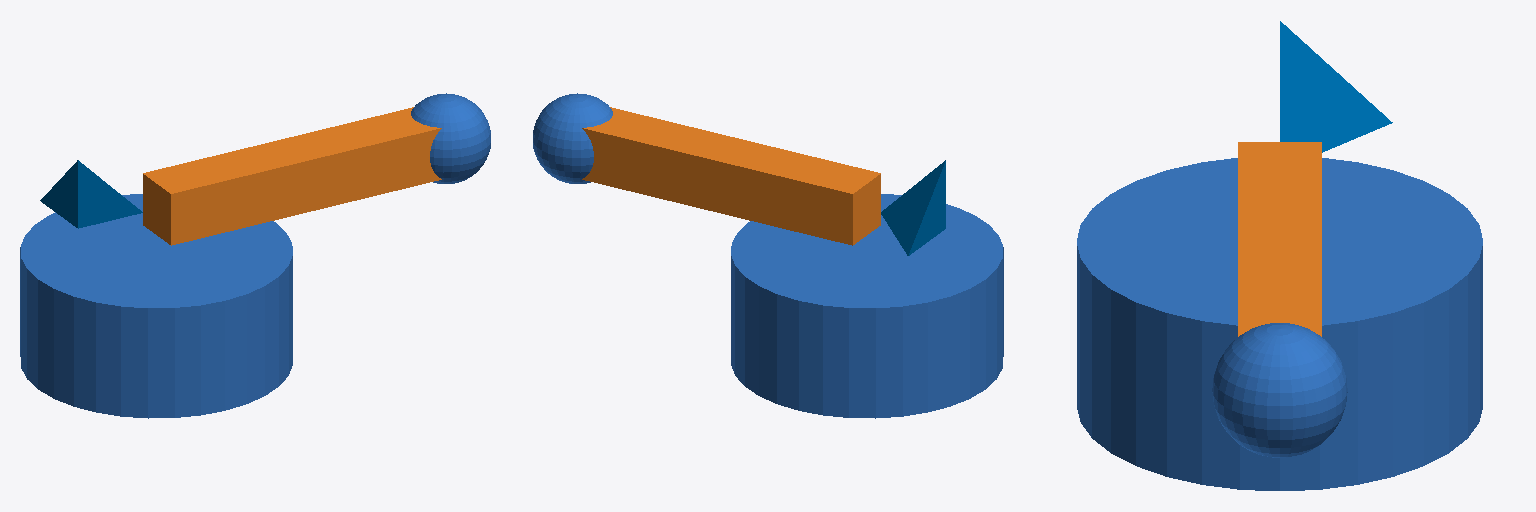
URDF robot description (aide_demo_arm):
<?xml version="1.0"?>
<robot name="aide_demo_arm">
  <material name="base_blue"><color rgba="0.25 0.5 0.8 1"/><texture filename="../meshes/textures/checker.png"/></material>
  <material name="arm_orange"><color rgba="0.95 0.55 0.18 1"/></material>
  <link name="base_link"><visual><origin xyz="0 0 0.08"/><geometry><cylinder radius="0.18" length="0.16"/></geometry><material name="base_blue"/></visual><collision><origin xyz="0 0 0.08"/><geometry><cylinder radius="0.18" length="0.16"/></geometry></collision></link>
  <link name="arm_link"><visual><origin xyz="0.22 0 0"/><geometry><box size="0.44 0.075 0.075"/></geometry><material name="arm_orange"/></visual><collision><origin xyz="0.22 0 0"/><geometry><box size="0.44 0.08 0.08"/></geometry></collision></link>
  <joint name="shoulder" type="revolute"><parent link="base_link"/><child link="arm_link"/><origin xyz="0 0 0.22"/><axis xyz="0 0 1"/><limit lower="-1.57" upper="1.57" effort="10" velocity="1"/></joint>
  <link name="wrist_link"><visual><geometry><sphere radius="0.06"/></geometry><material name="base_blue"/></visual></link>
  <joint name="wrist" type="continuous"><parent link="arm_link"/><child link="wrist_link"/><origin xyz="0.44 0 0"/><axis xyz="0 1 0"/></joint>
  <link name="tool_link"><visual><origin xyz="0.09 0 0"/><geometry><mesh filename="../meshes/tool.stl" scale="0.1 0.1 0.1"/></geometry><material name="base_blue"/></visual></link>
  <joint name="slide" type="prismatic"><parent link="wrist_link"/><child link="tool_link"/><origin xyz="0.06 0 0"/><axis xyz="1 0 0"/><limit lower="0" upper="0.15" effort="10" velocity="1"/></joint>
  <link name="sensor_link"><visual><geometry><mesh filename="package://robot_description/meshes/sensor.dae"/></geometry></visual></link>
  <joint name="sensor_mount" type="fixed"><parent link="base_link"/><child link="sensor_link"/><origin xyz="-0.12 0 0.22"/></joint>
  <link name="mimic_link"><visual><origin xyz="0.05 0 0"/><geometry><box size="0.1 0.035 0.035"/></geometry><material name="arm_orange"/></visual></link>
  <joint name="follower" type="revolute"><parent link="base_link"/><child link="mimic_link"/><origin xyz="0 0 0.11"/><axis xyz="0 0 1"/><limit lower="-3.14" upper="3.14" effort="1" velocity="1"/><mimic joint="shoulder" multiplier="-1" offset="0"/></joint>
</robot>

--- Render facts (derived) ---
The picture shows the robot from 3 angles, left to right: view 1: azimuth 30°, elevation 25°; view 2: azimuth 150°, elevation 25°; view 3: azimuth 270°, elevation 25°; orthographic projection.
Model aide_demo_arm with 6 links and 5 joints (2 revolute, 1 continuous, 1 prismatic, 1 fixed), rooted at base_link, posed all joints at 0.
Visible links, largest first — view 1: base_link, arm_link, wrist_link, sensor_link; view 2: base_link, arm_link, wrist_link, sensor_link; view 3: base_link, arm_link, wrist_link, sensor_link.
Boxes of the visible links, x1,y1,x2,y2 form: base_link: (20, 194, 292, 418); arm_link: (143, 107, 441, 245); wrist_link: (411, 93, 490, 183); sensor_link: (40, 160, 142, 228); base_link: (731, 194, 1003, 418); arm_link: (582, 107, 880, 245); wrist_link: (533, 93, 612, 183); sensor_link: (881, 160, 945, 255); base_link: (1077, 158, 1482, 490); arm_link: (1238, 142, 1321, 336); wrist_link: (1212, 323, 1347, 457); sensor_link: (1280, 21, 1392, 152).
Size in the robot's own frame: 0.68 by 0.36 by 0.32 metres.
1 mesh visuals loaded from 2 distinct referenced files (1 Collada DAE); not drawn: 1 (reference not matched to a file when rendering).
